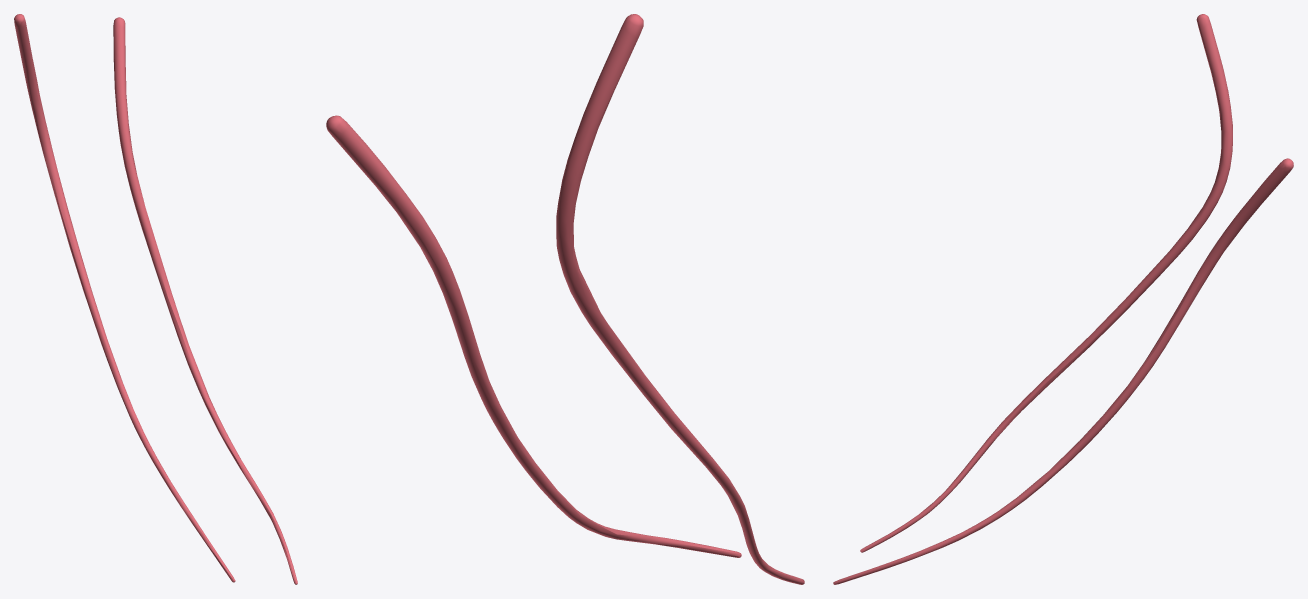
File: fma85101_cx251.glb
The picture shows the model from 3 angles, left to right: view 1: azimuth 30°, elevation 25°; view 2: azimuth 150°, elevation 25°; view 3: azimuth 270°, elevation 25°; orthographic projection. The views are drawn at different scales.
Visible parts, largest first — view 1: FMA85101_CX251; view 2: FMA85101_CX251; view 3: FMA85101_CX251.
Part boxes in pixels (bbox=[...]): FMA85101_CX251: bbox=[14, 14, 297, 584]; FMA85101_CX251: bbox=[326, 14, 804, 584]; FMA85101_CX251: bbox=[833, 14, 1293, 584].
Size of the model in its own units: 0.0202 by 0.0615 by 0.05.
